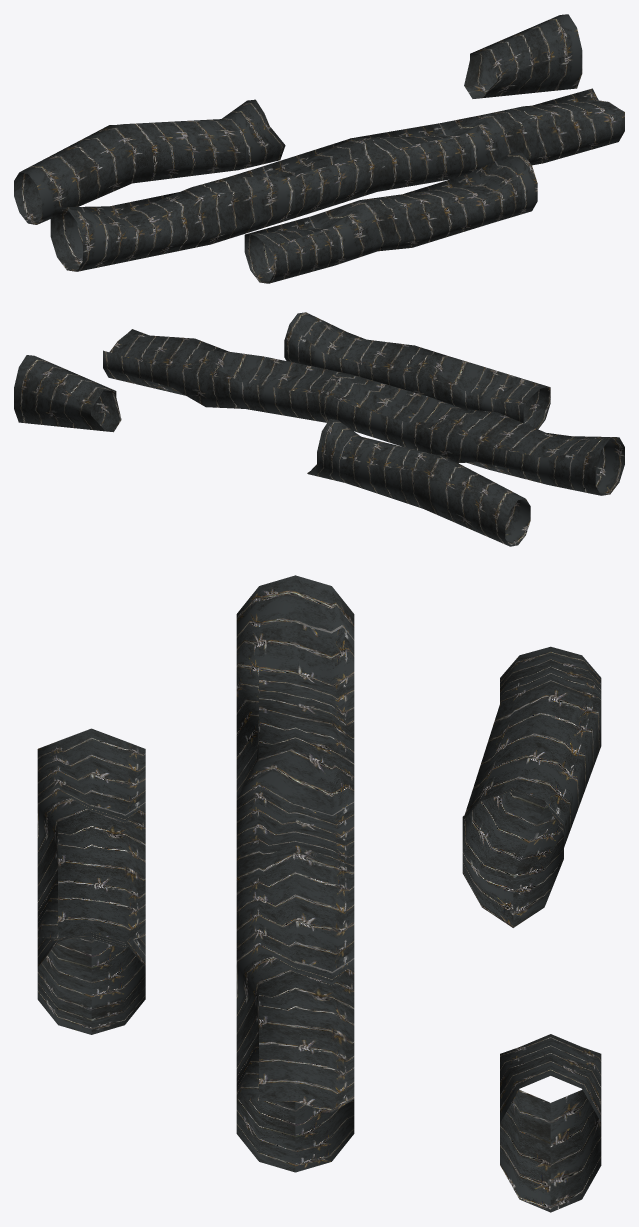
File: fence_03_wire.FBX
3 views of the same model, one above another, from view 1: azimuth 30°, elevation 25°; view 2: azimuth 150°, elevation 25°; view 3: azimuth 270°, elevation 25° (orthographic). The views are drawn at different scales.
Parts seen in each view (by area): view 1: Wire_02, Wire_01, Wire_03a, Wire_03b; view 2: Wire_02, Wire_03a, Wire_01, Wire_03b; view 3: Wire_02, Wire_01, Wire_03a, Wire_03b.
Part boxes in pixels (x1,y1,x2,y2): Wire_02: (50, 88, 624, 271); Wire_01: (244, 152, 537, 283); Wire_03a: (14, 99, 285, 224); Wire_03b: (464, 14, 582, 98); Wire_02: (103, 329, 624, 495); Wire_03a: (307, 419, 530, 546); Wire_01: (284, 312, 550, 429); Wire_03b: (14, 355, 121, 432); Wire_02: (236, 575, 354, 1172); Wire_01: (37, 728, 145, 1034); Wire_03a: (462, 646, 601, 927); Wire_03b: (500, 1034, 601, 1212).
Bounding box in the file's own units: 674 × 317 × 88.32.
Materials: 1 (1 with a texture image).
